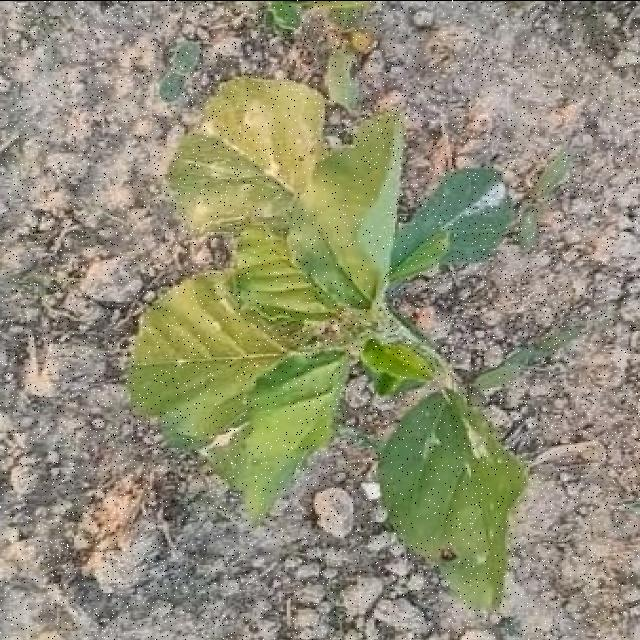weed: (127, 79, 526, 604)
